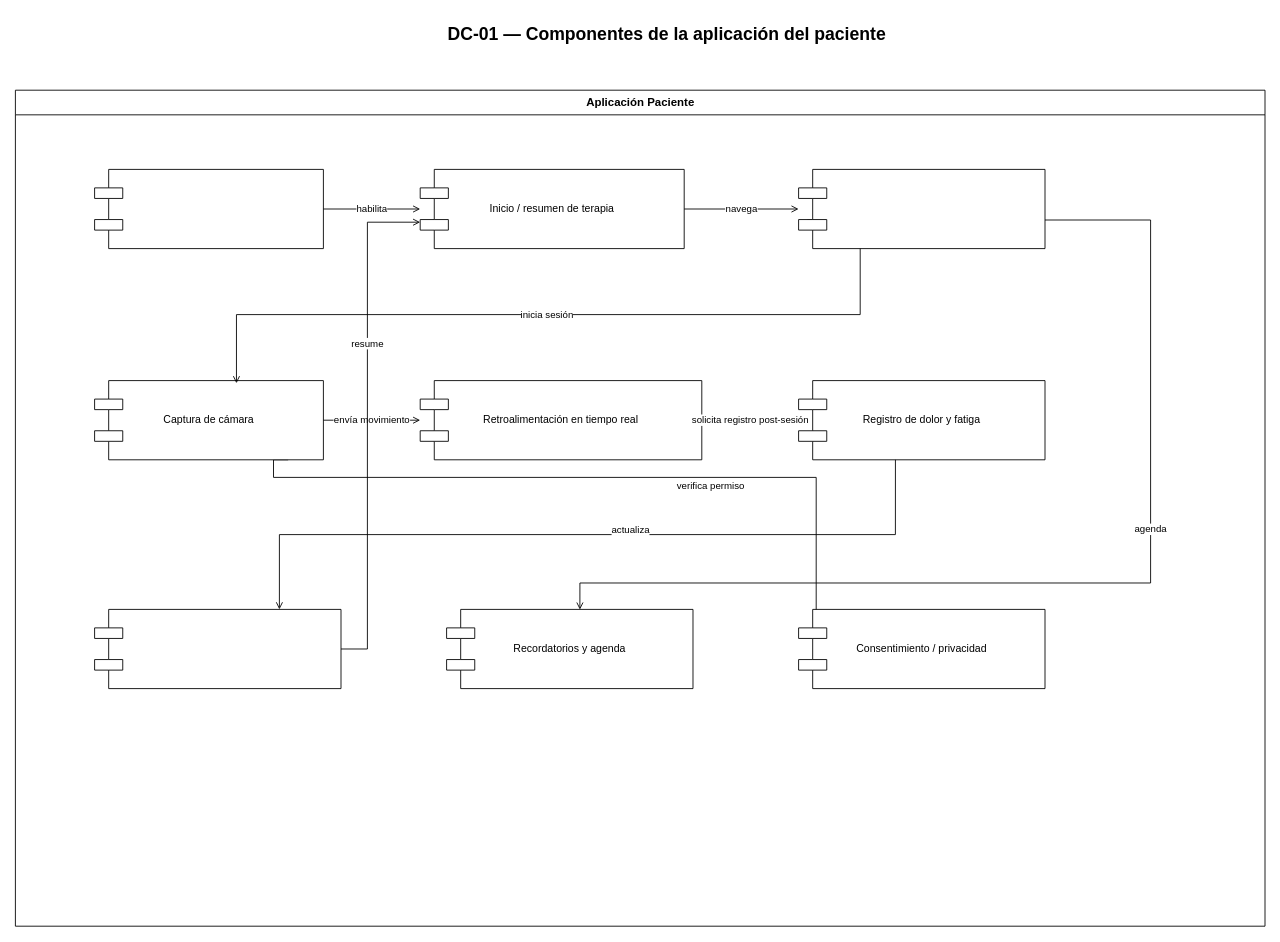
The diagram is 1280 pixels wide and 942 high, and some of its shapes have lost their labels. Each missing label, with the centre of its shape:
Autenticación / sesión: the point at 208,209
Progreso y cumplimiento: the point at 217,649
Rutina del día: the point at 921,209
